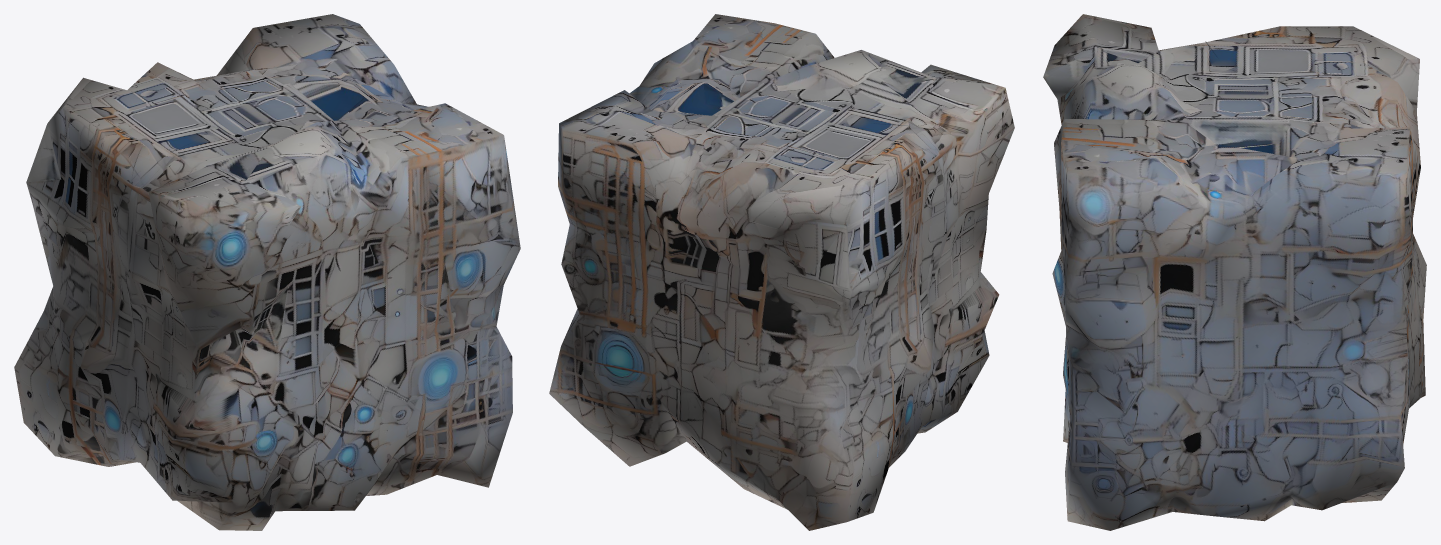
Rendered from Debris_Archway.obj.
3 views of the same model, side by side, from view 1: azimuth 30°, elevation 25°; view 2: azimuth 150°, elevation 25°; view 3: azimuth 270°, elevation 25° (orthographic). The views are drawn at different scales.
Parts seen in each view (by area): view 1: tripo_node_f07cf94a-1535-4ed8-a8e9-55009b85c2e1; view 2: tripo_node_f07cf94a-1535-4ed8-a8e9-55009b85c2e1; view 3: tripo_node_f07cf94a-1535-4ed8-a8e9-55009b85c2e1.
Part boxes in pixels (x1,y1,x2,y2): tripo_node_f07cf94a-1535-4ed8-a8e9-55009b85c2e1: (14,14,520,530); tripo_node_f07cf94a-1535-4ed8-a8e9-55009b85c2e1: (549,14,1014,530); tripo_node_f07cf94a-1535-4ed8-a8e9-55009b85c2e1: (1043,14,1426,530).
Bounding box in the file's own units: 0.9355 × 0.9399 × 0.8727.
1 material, 1 textured.
